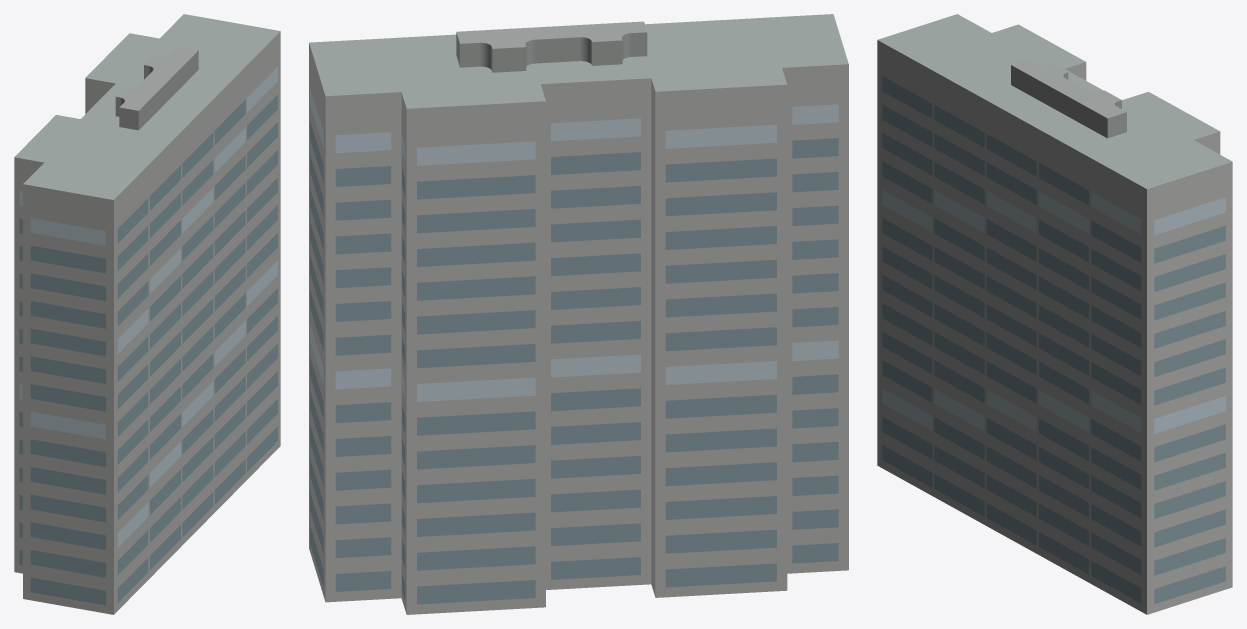
Rendered from fallback-gaepo-raemian-forest-123.glb.
The picture shows the model from 3 angles, left to right: view 1: azimuth 30°, elevation 25°; view 2: azimuth 150°, elevation 25°; view 3: azimuth 270°, elevation 25°; orthographic projection. The views are drawn at different scales.
Parts seen in each view (by area): view 1: fallback-gaepo-raemian-forest-123; view 2: fallback-gaepo-raemian-forest-123; view 3: fallback-gaepo-raemian-forest-123.
Part boxes in pixels (x1,y1,x2,y2): fallback-gaepo-raemian-forest-123: (14, 14, 280, 614); fallback-gaepo-raemian-forest-123: (309, 14, 848, 614); fallback-gaepo-raemian-forest-123: (877, 14, 1232, 614).
Bounding box in the file's own units: 39.63 × 47 × 33.96.
